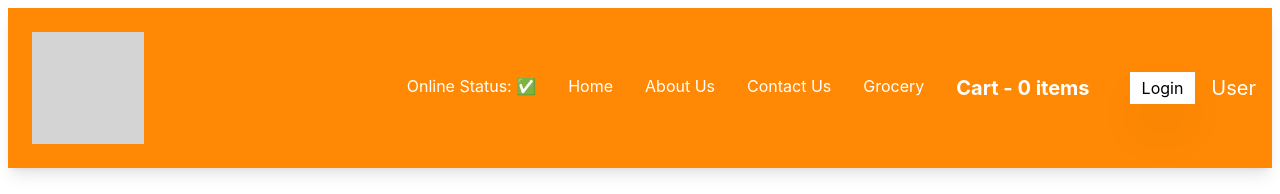
Should change the login button to Logout button on Click
# Click on the login button
Click the button "Login" at {"x": 1162, "y": 88}, box left=1134, top=76, right=1191, bottom=100
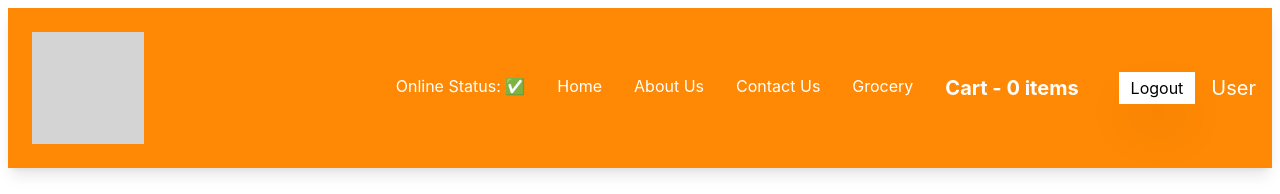
Now the button "Logout" is shown, box left=1123, top=76, right=1191, bottom=100
